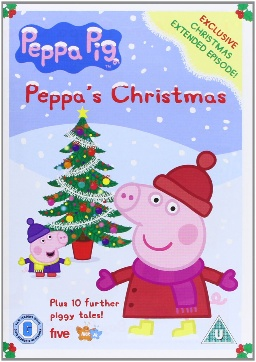Peppa: (94, 151, 240, 338)
